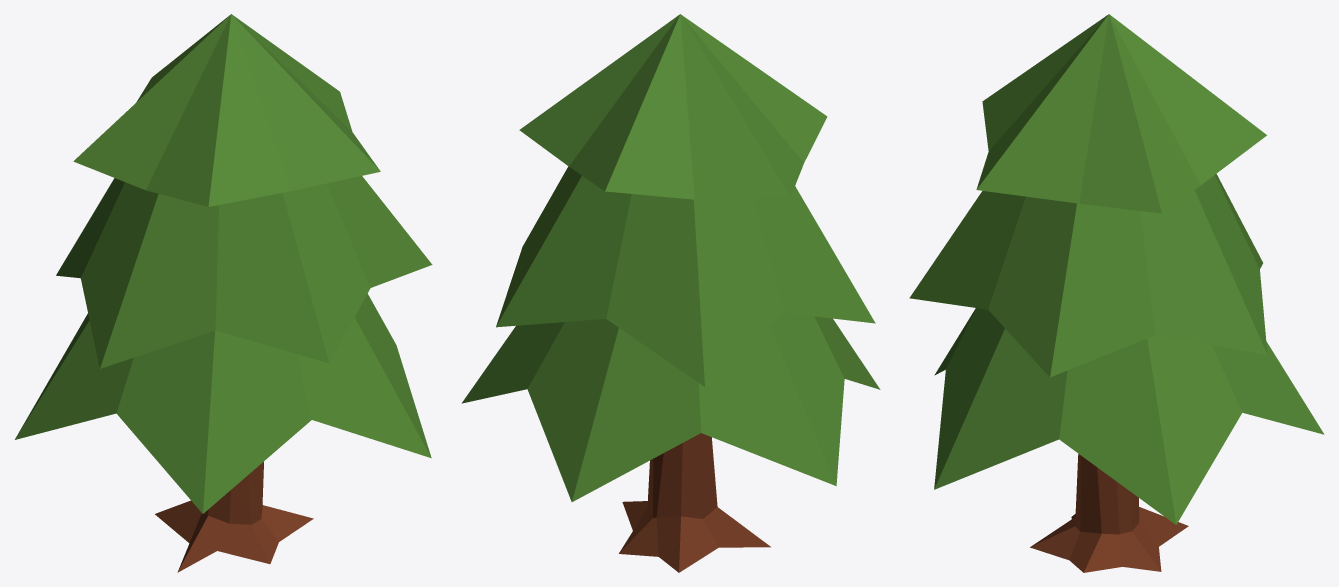
File: tree2.fbx
3 renders of one model, left to right at view 1: azimuth 30°, elevation 25°; view 2: azimuth 150°, elevation 25°; view 3: azimuth 270°, elevation 25°, orthographic. The views are drawn at different scales.
Visible parts, largest first — view 1: Circle; view 2: Circle; view 3: Circle.
Boxes of the visible parts, x1=… form: Circle: x1=15, y1=14, x2=432, y2=572; Circle: x1=461, y1=14, x2=880, y2=572; Circle: x1=909, y1=14, x2=1324, y2=572.
Bounding box in the file's own units: 112 × 152 × 106.
